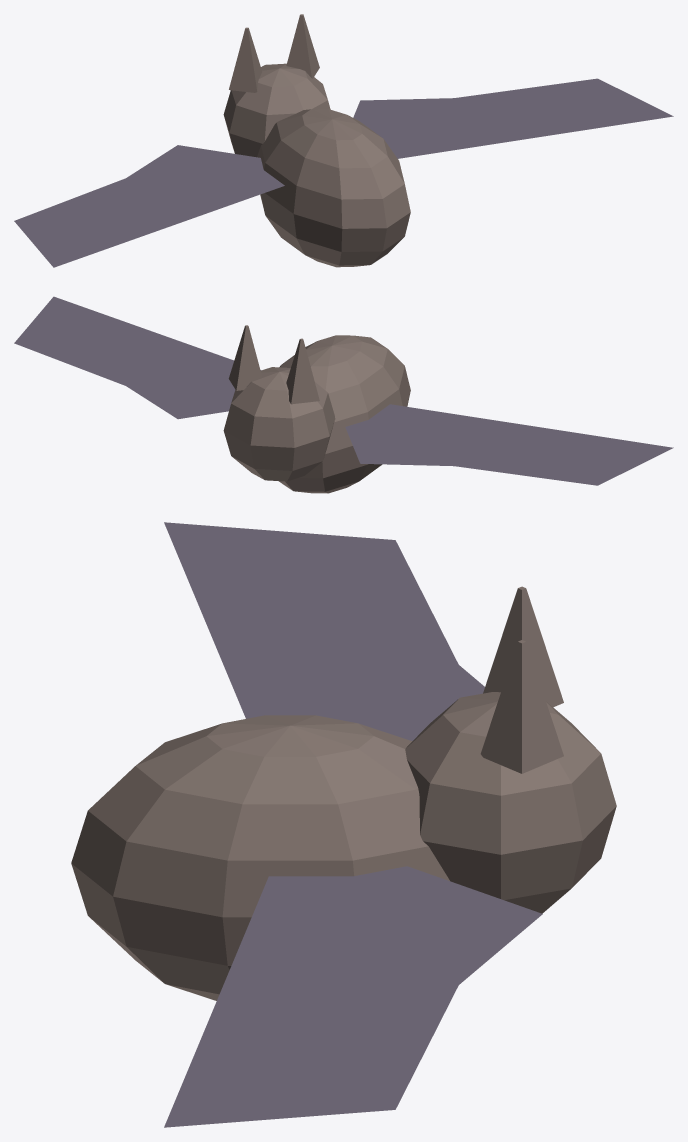
Rendered from fauna_bat.glb.
The picture shows the model from 3 angles, top to bottom: view 1: azimuth 30°, elevation 25°; view 2: azimuth 150°, elevation 25°; view 3: azimuth 270°, elevation 25°; orthographic projection. The views are drawn at different scales.
Visible parts, largest first — view 1: Body, WingL, WingR, Head, EarL, EarR; view 2: WingL, WingR, Body, Head, EarL, EarR; view 3: Body, WingR, WingL, Head, EarR, EarL.
Boxes of the visible parts, box(x1,y1,x2,y2) form: Body: box(257, 109, 410, 267); WingL: box(14, 145, 284, 267); WingR: box(353, 78, 673, 158); Head: box(223, 63, 330, 157); EarL: box(229, 27, 262, 92); EarR: box(286, 14, 319, 78); WingL: box(345, 404, 673, 485); WingR: box(14, 296, 261, 419); Body: box(278, 335, 410, 493); Head: box(223, 367, 335, 481); EarL: box(286, 338, 319, 404); EarR: box(228, 325, 262, 390); Body: box(71, 715, 449, 1000); WingR: box(164, 866, 542, 1127); WingL: box(164, 522, 484, 740); Head: box(405, 692, 616, 913); EarR: box(480, 640, 563, 773); EarL: box(483, 586, 563, 707).
Size of the model in its own units: 0.68 by 0.202 by 0.259.
